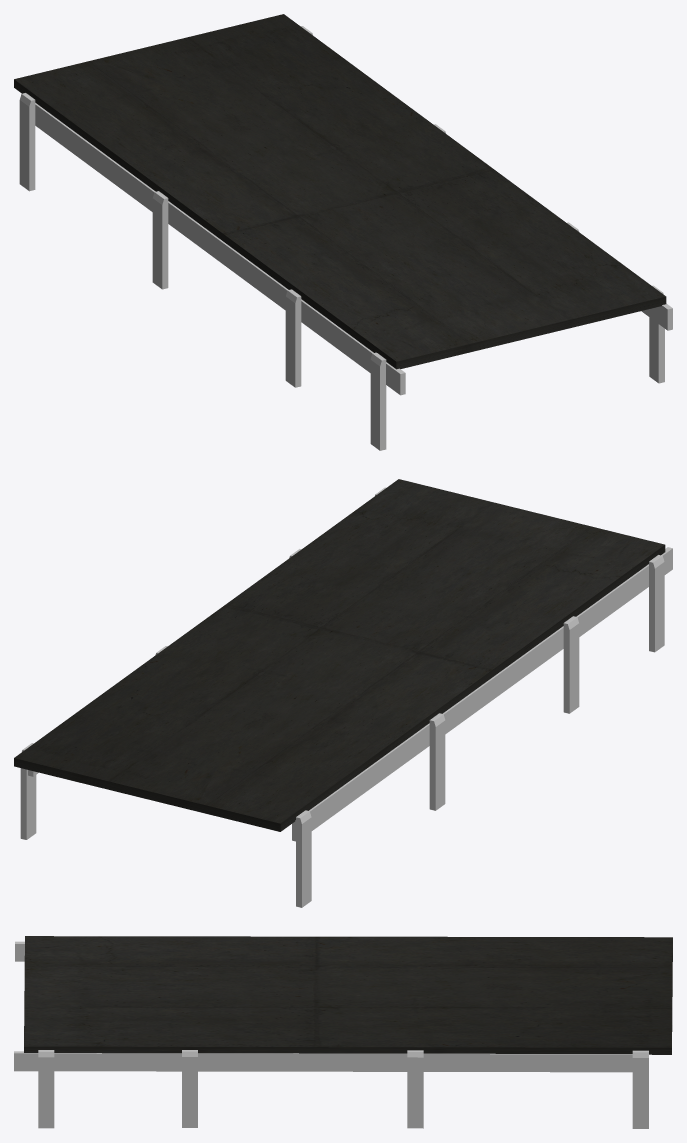
Rendered from SM_Machine_05.FBX.
The picture shows the model from 3 angles, top to bottom: view 1: azimuth 30°, elevation 25°; view 2: azimuth 150°, elevation 25°; view 3: azimuth 270°, elevation 25°; orthographic projection. The views are drawn at different scales.
Parts seen in each view (by area): view 1: SM_Machine_05; view 2: SM_Machine_05; view 3: SM_Machine_05.
Boxes of the visible parts, x1,y1,x2,y2 form: SM_Machine_05: [14, 14, 672, 450]; SM_Machine_05: [14, 479, 672, 907]; SM_Machine_05: [14, 936, 672, 1128].
Size of the model in its own units: 1.85 by 0.5776 by 4.38.
